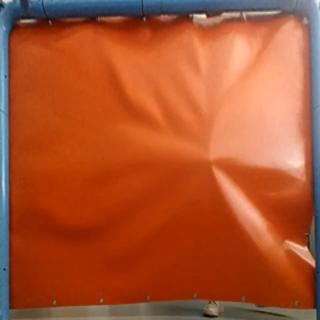Hit-hRxx: (202, 154, 220, 169)
